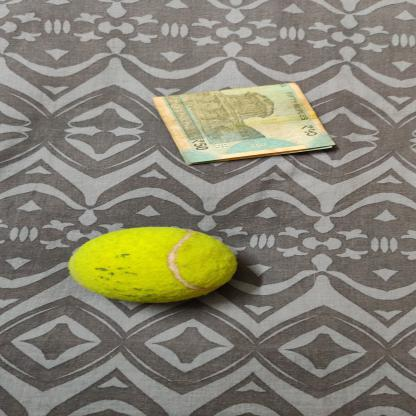New50Back: (149, 80, 340, 166)
